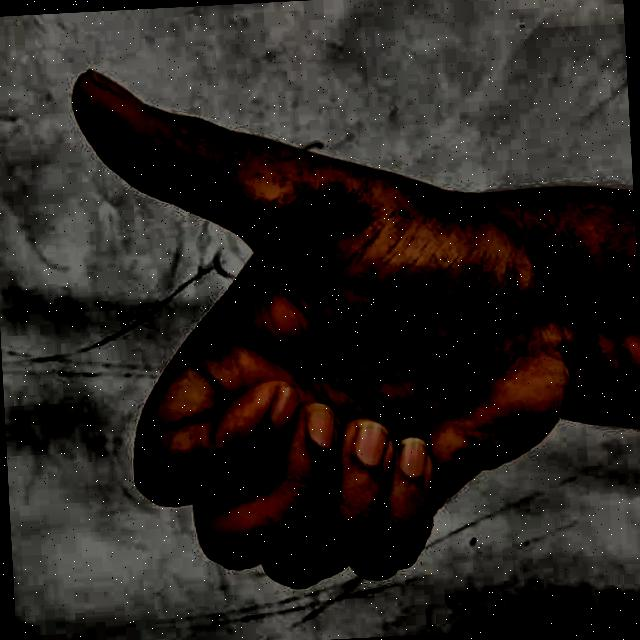Do: (42, 22, 592, 621)
